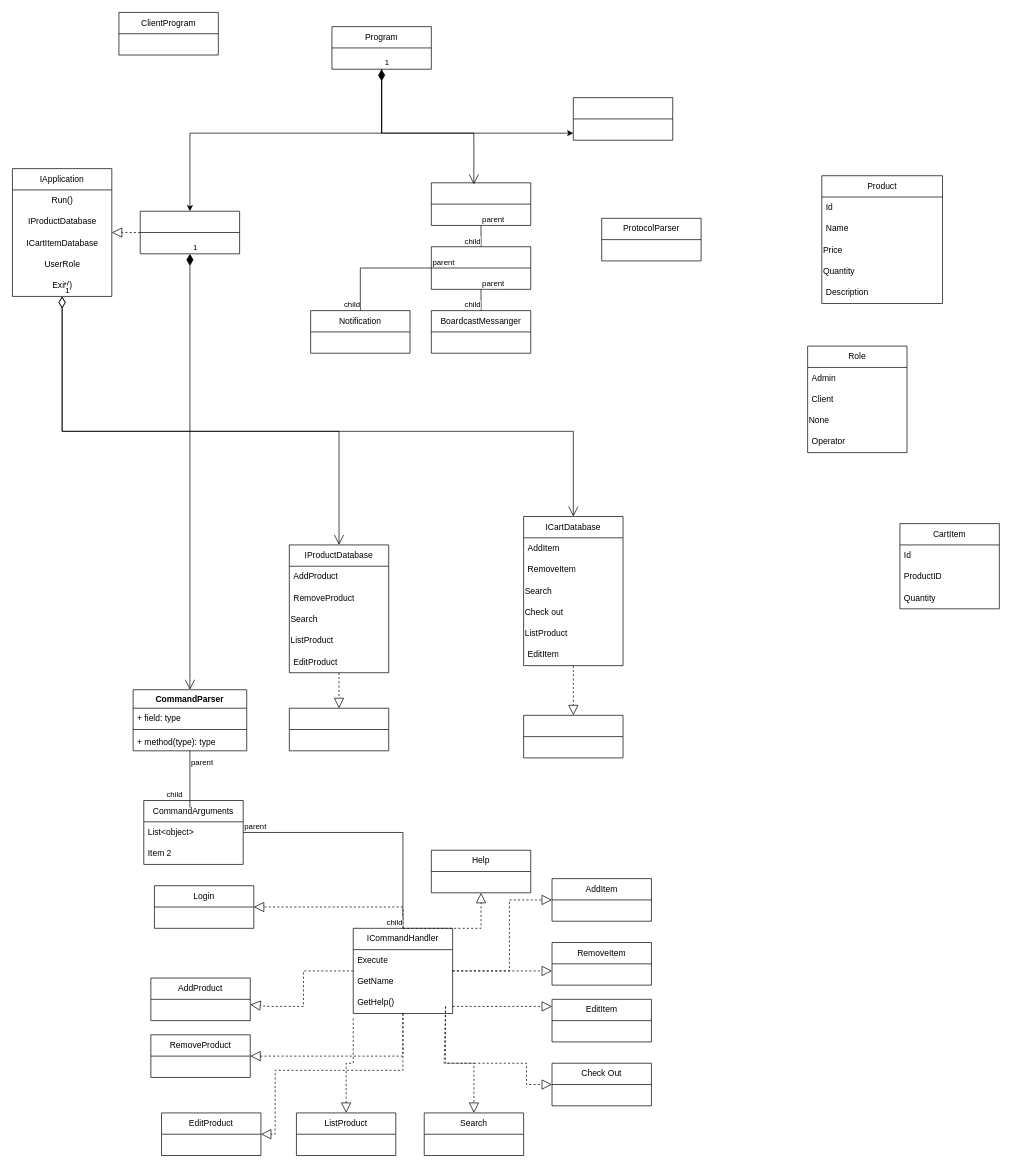
The diagram is 1012 pixels wide and 1168 high, and some of its shapes have lost their labels. Each missing label, with the centre of its shape:
"Application" belongs at pixel 190 232.
"CartDatabase" belongs at pixel 573 736.
"ClientHandler" belongs at pixel 481 267.
"Logger" belongs at pixel 623 118.
"ProductDatabase" belongs at pixel 339 729.
"Server" belongs at pixel 481 203.
